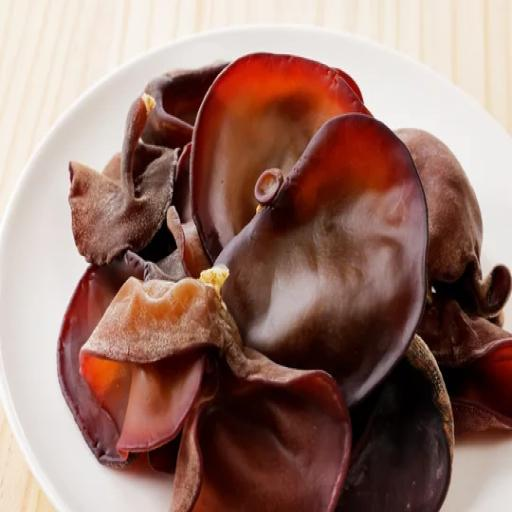Wood Ear Mushroom: (174, 45, 431, 423), (79, 272, 343, 512), (372, 101, 512, 332), (56, 56, 211, 260), (315, 324, 470, 512), (404, 290, 512, 473)
